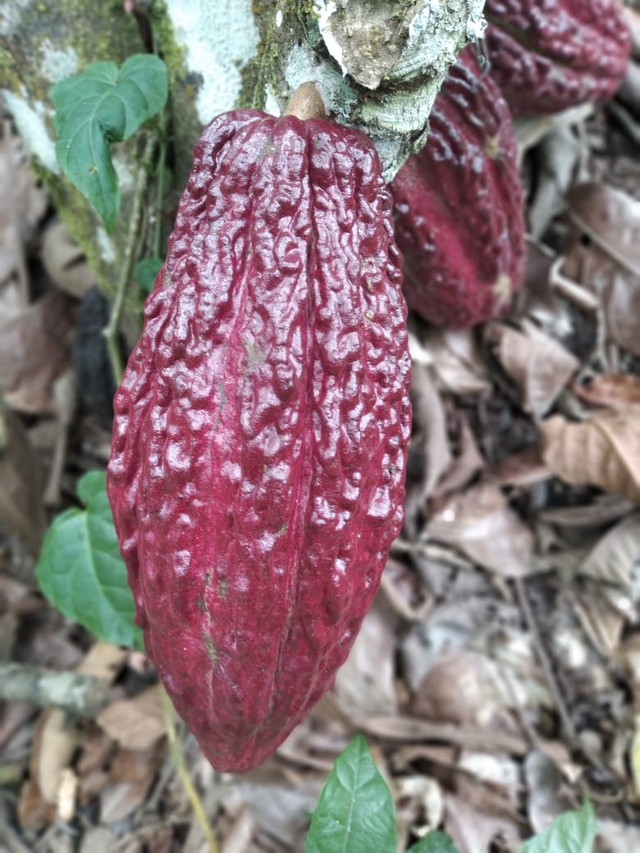Health: (100, 103, 418, 775)
